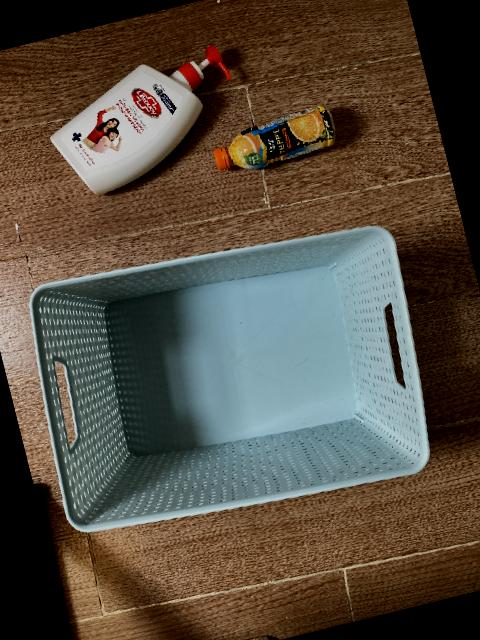cart: (30, 226, 431, 534)
life-buoy: (50, 45, 233, 195)
teppy_orange_juice: (213, 105, 336, 170)
